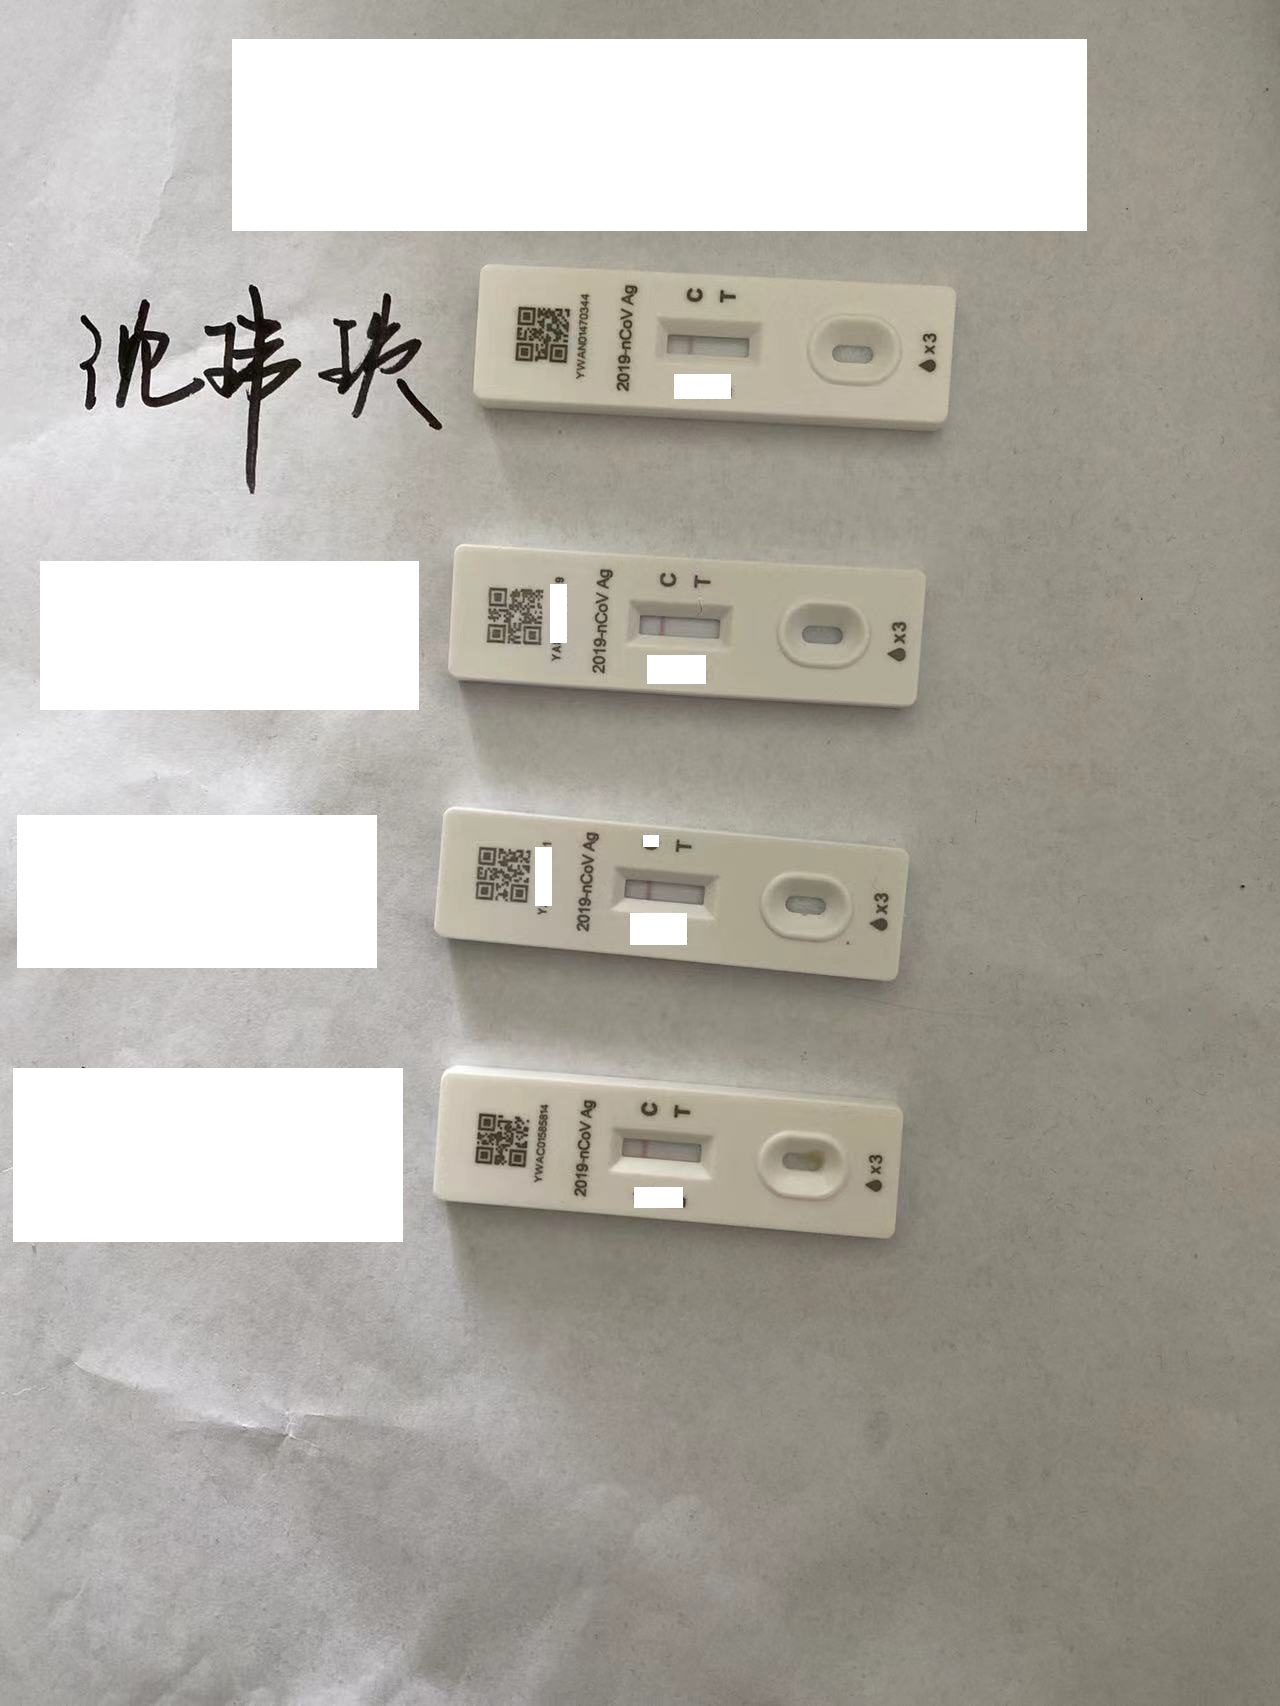negative: (660, 319, 758, 364), (625, 600, 727, 641), (617, 867, 713, 910), (613, 1131, 707, 1170)
